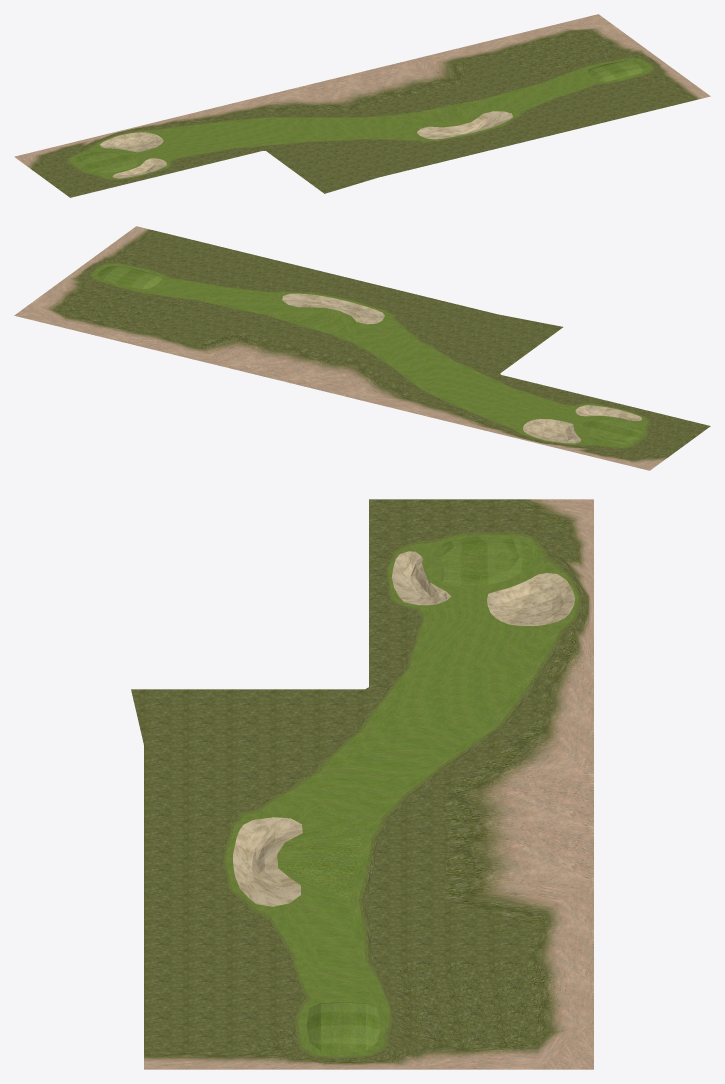
File: vegasgolfcrs06.obj
3 views of the same model, one above another, from view 1: azimuth 30°, elevation 25°; view 2: azimuth 150°, elevation 25°; view 3: azimuth 270°, elevation 25° (orthographic). The views are drawn at different scales.
Visible parts, largest first — view 1: vegasgolfcrs06; view 2: vegasgolfcrs06; view 3: vegasgolfcrs06.
Boxes of the visible parts, x1=… form: vegasgolfcrs06: x1=14, y1=14, x2=710, y2=197; vegasgolfcrs06: x1=14, y1=226, x2=710, y2=470; vegasgolfcrs06: x1=131, y1=499, x2=593, y2=1069.
Size of the model in its own units: 120 by 1.27 by 41.16.
Materials: 7 (7 with a texture image).
